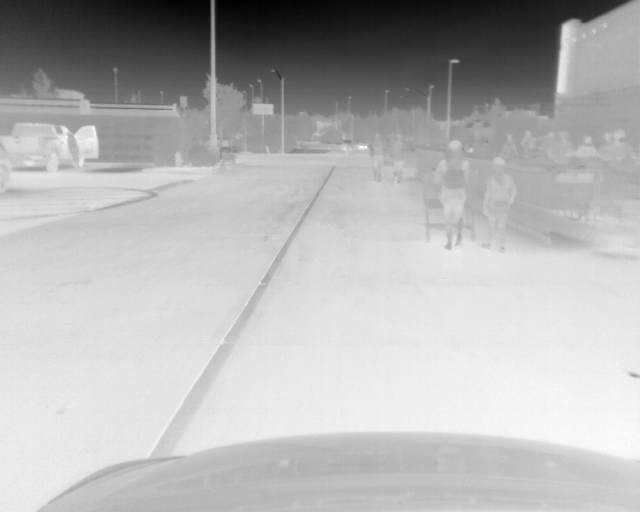car: (6, 120, 99, 169), (340, 138, 353, 152), (356, 140, 368, 151)
people: (432, 139, 470, 251), (596, 128, 638, 220), (480, 155, 518, 253), (387, 134, 409, 185), (369, 133, 387, 183), (554, 129, 577, 158), (64, 130, 81, 169), (576, 135, 599, 158), (518, 130, 538, 154), (502, 131, 517, 156)
